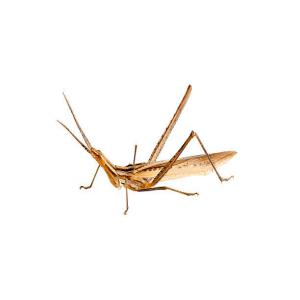locust: (54, 57, 246, 235)
